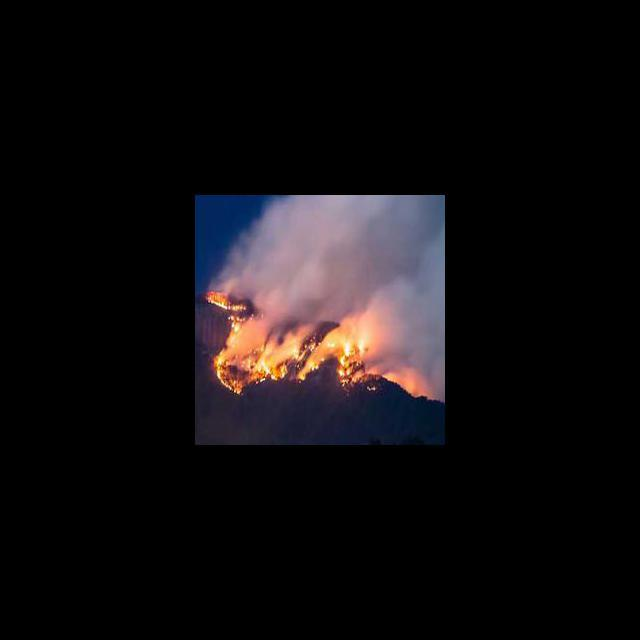Fire: (204, 289, 419, 403)
Smoke: (206, 195, 445, 288)
